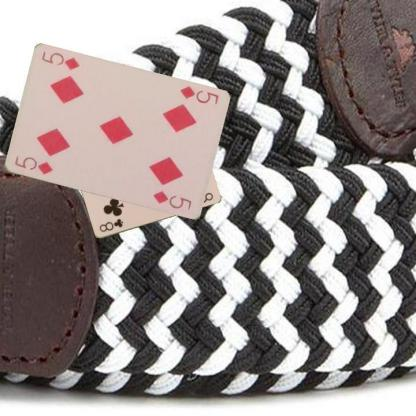5d: (176, 83, 219, 106), (12, 153, 54, 176)
8c: (97, 216, 124, 234)
